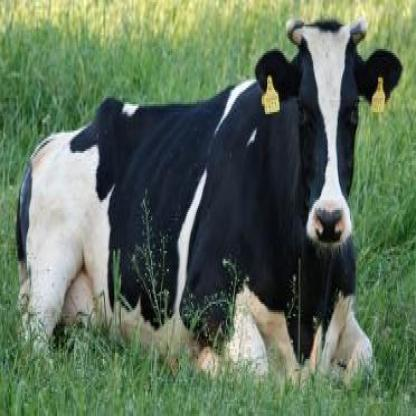cow: (14, 18, 404, 392)
